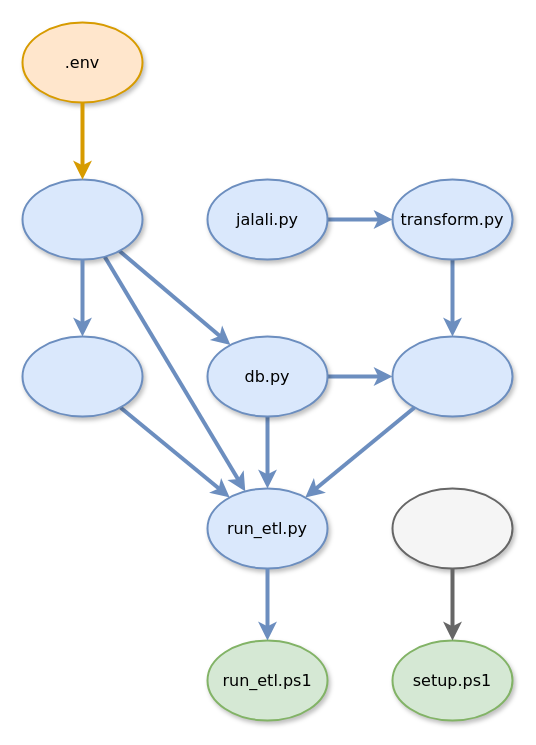
This 536x745 diagram has some shape labels left out. The shapes that lost their labels are listed below. From the top down, each one's centre as x and y in pixels, then its label:
the point at 83,220: config.py
the point at 83,377: extract.py
the point at 453,377: load.py
the point at 453,529: requirements.txt
